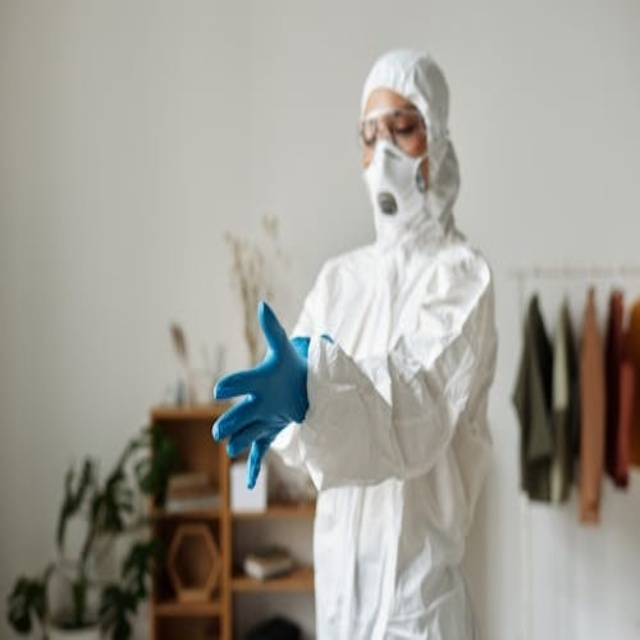Gafas: (360, 110, 424, 147)
Guantes: (207, 284, 321, 506)
Mascara: (364, 140, 429, 230)
